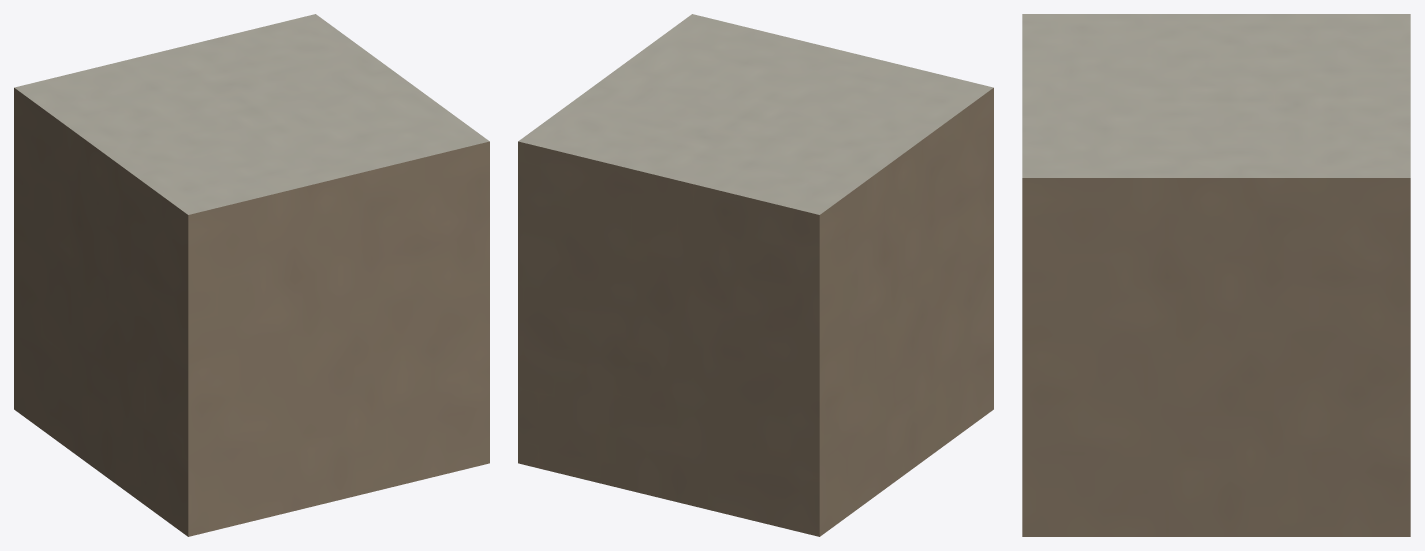
The model's file is set_roof_outside_b10.fbx.
The picture shows the model from 3 angles, left to right: view 1: azimuth 30°, elevation 25°; view 2: azimuth 150°, elevation 25°; view 3: azimuth 270°, elevation 25°; orthographic projection. The views are drawn at different scales.
Parts seen in each view (by area): view 1: set_roof_outside_b10; view 2: set_roof_outside_b10; view 3: set_roof_outside_b10.
Part boxes in pixels (<box>): set_roof_outside_b10: <box>14,14,489,536</box>; set_roof_outside_b10: <box>518,14,993,536</box>; set_roof_outside_b10: <box>1022,14,1410,536</box>.
Size of the model in its own units: 50 by 51 by 50.
